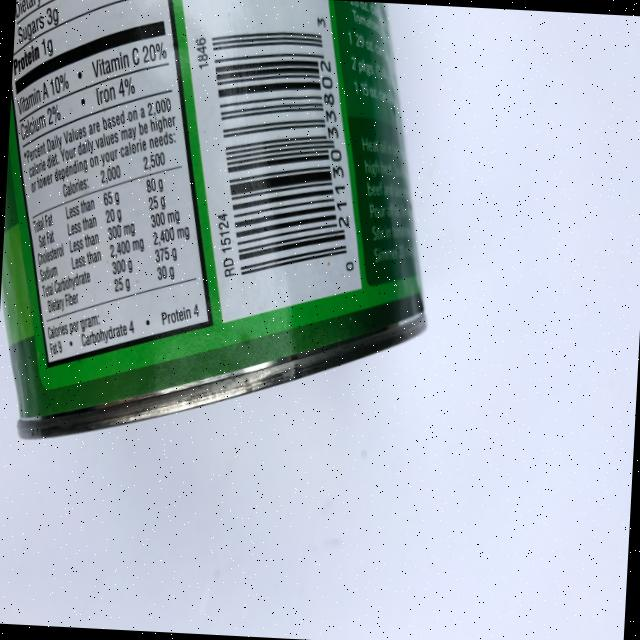metal: (0, 0, 444, 460)
